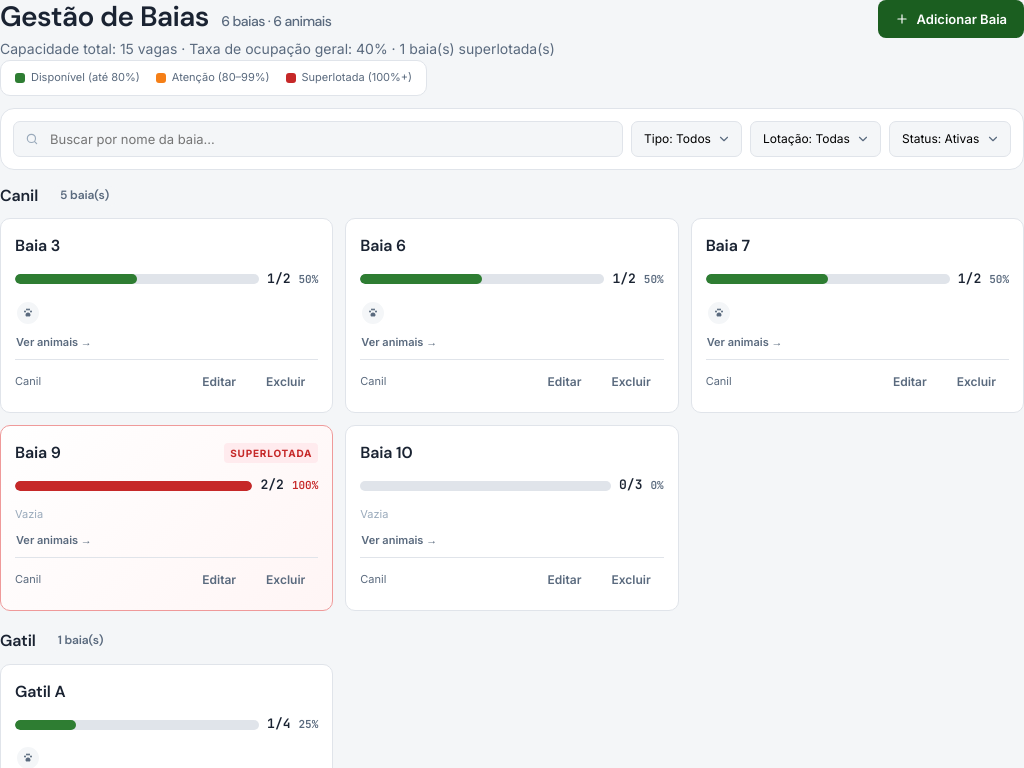
Scenario: GestaoBaias › cria uma baia nova
Expected: the text "Baia 3" is shown, [15, 233, 60, 259]
Click the button "Adicionar Baia" at [951, 19], box [878, 0, 1023, 38]
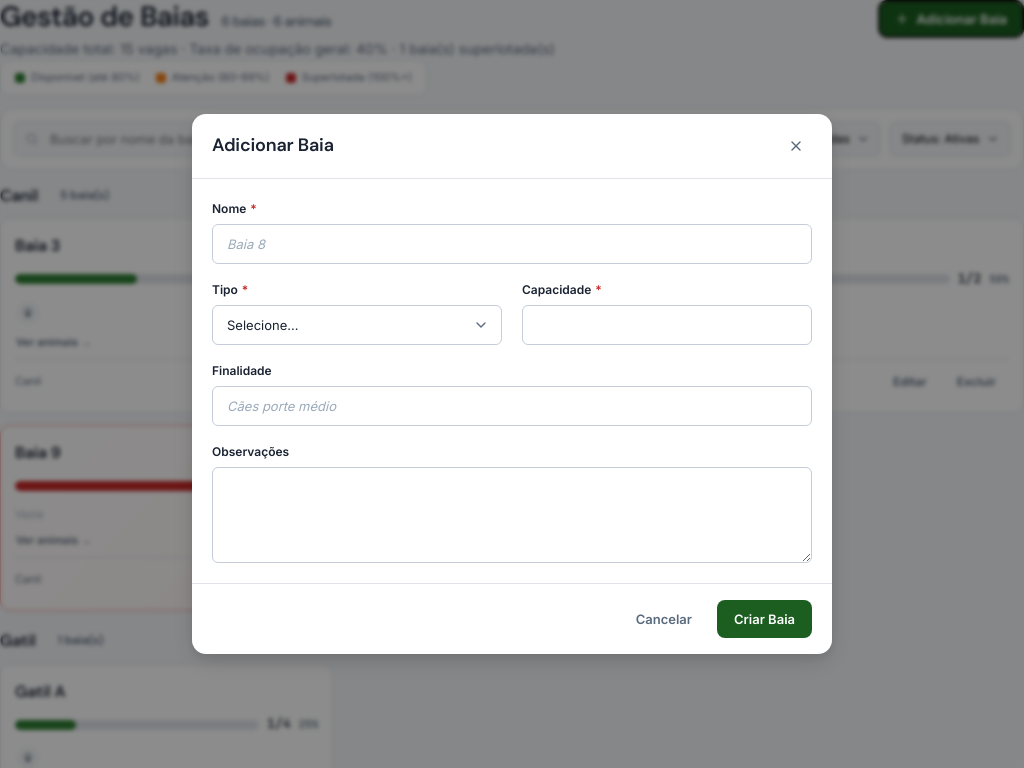
Type "Baia Nova" into the field labelled "Nome *" at [512, 244], box [212, 224, 812, 264]
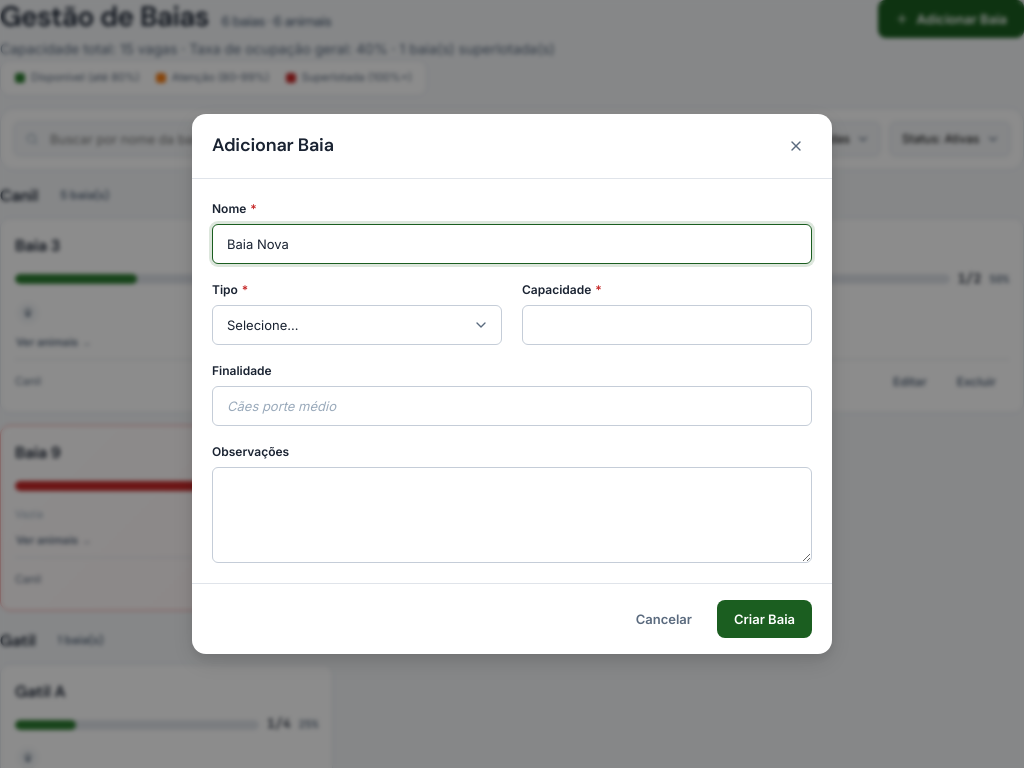
Select "Canil" in the dropdown labelled "Tipo *" at [357, 325], box [212, 305, 502, 345]
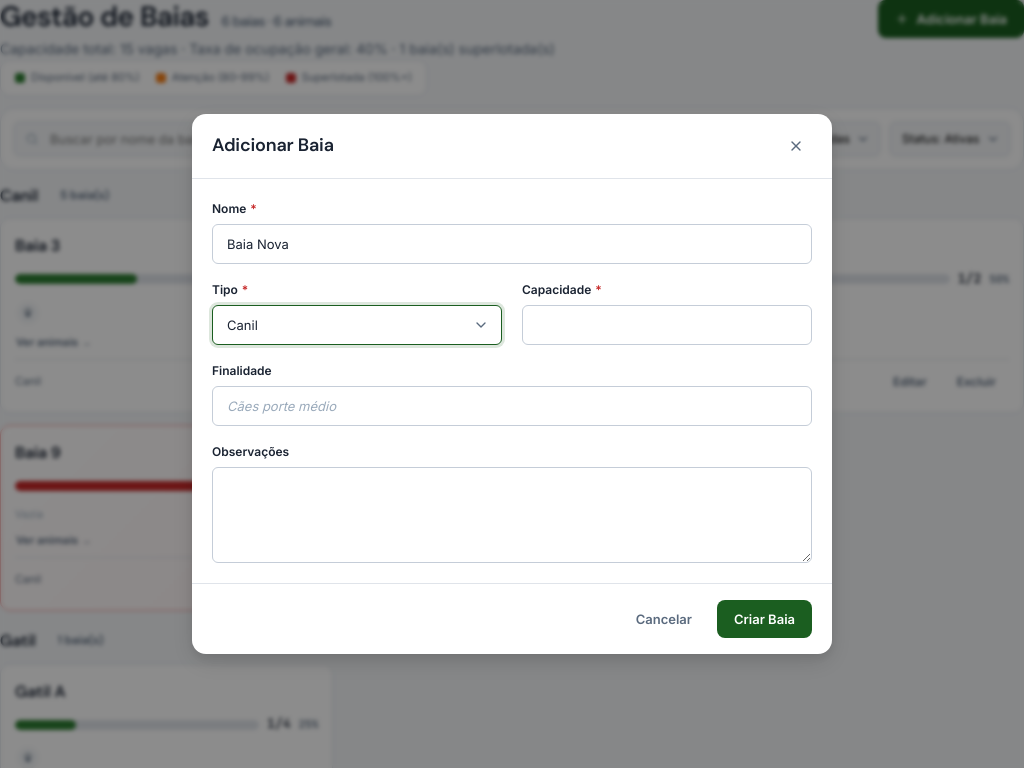
Type "5" into the number field labelled "Capacidade *" at [667, 325], box [522, 305, 812, 345]
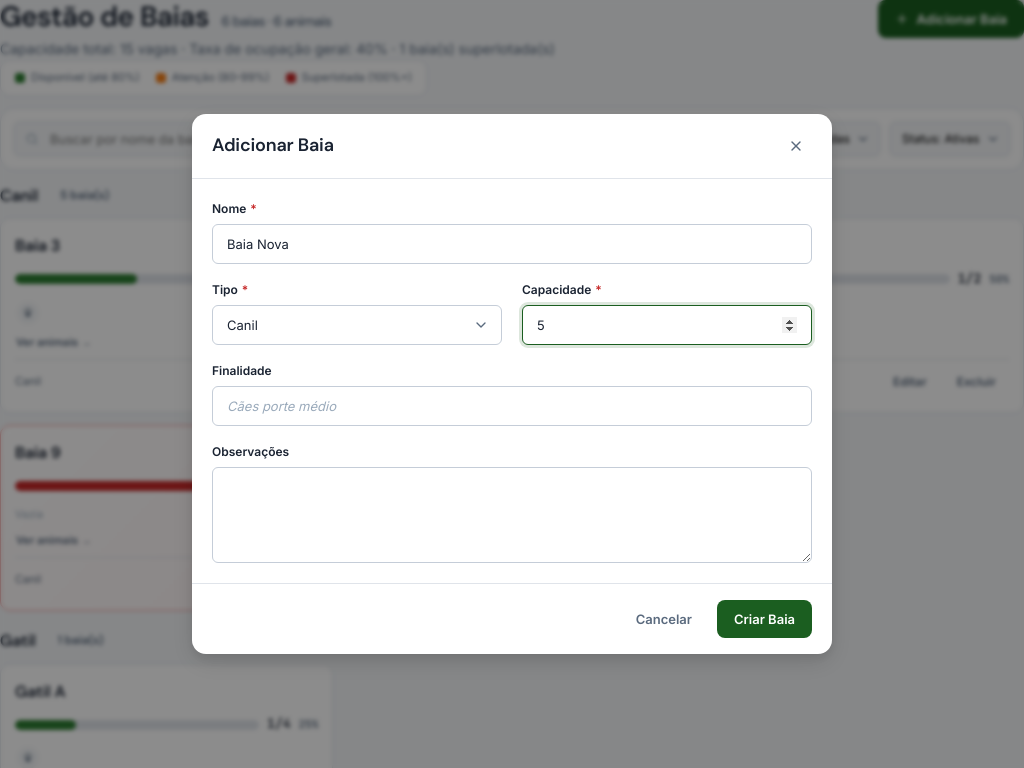
Click the button "Criar Baia" at [764, 619], box [717, 600, 812, 638]
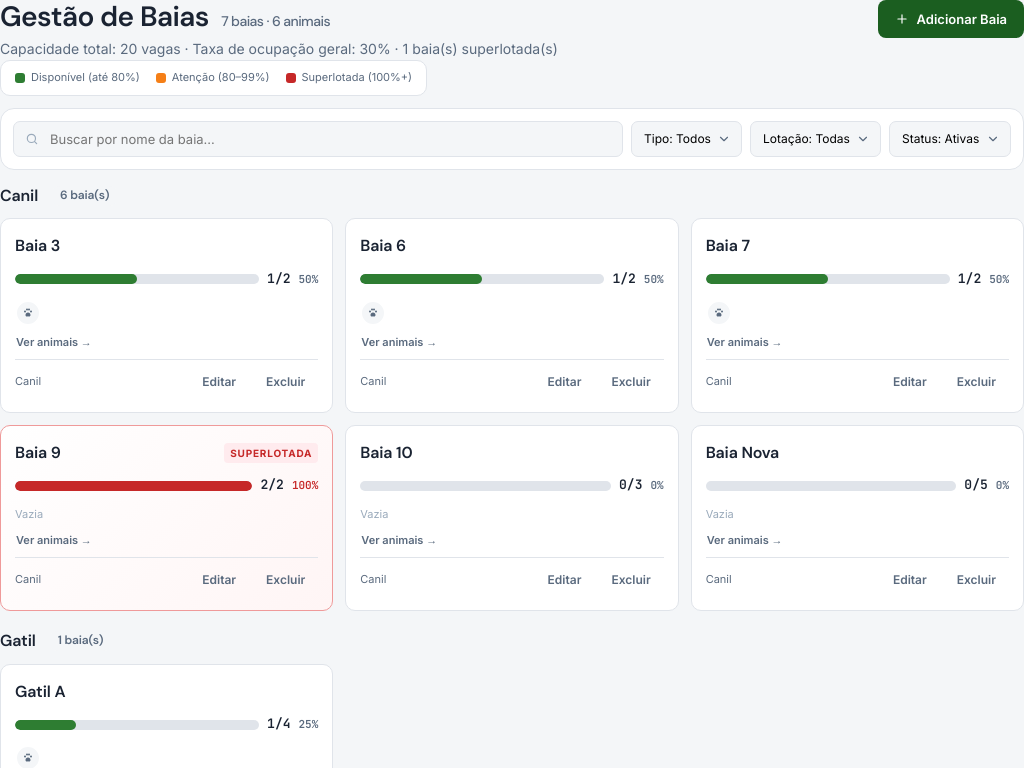
Expected: the text "Baia Nova" is shown, [706, 440, 779, 465]
